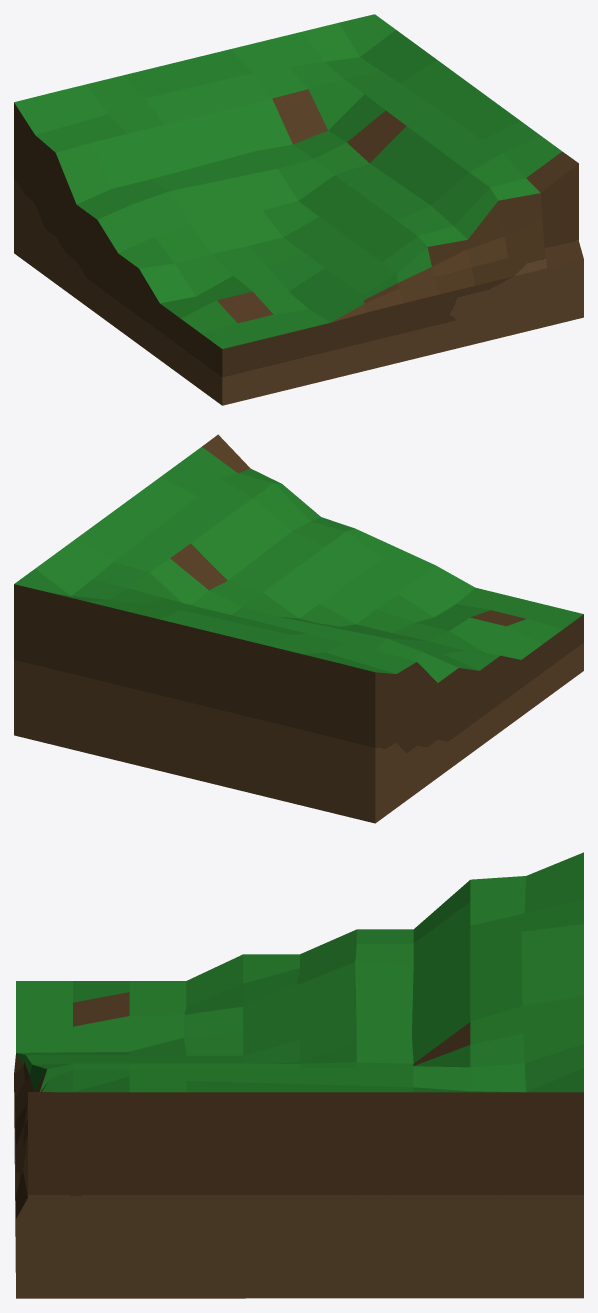
File: Elev_EPP.fbx
3 renders of one model, top to bottom at view 1: azimuth 30°, elevation 25°; view 2: azimuth 150°, elevation 25°; view 3: azimuth 270°, elevation 25°, orthographic. The views are drawn at different scales.
Visible parts, largest first — view 1: Elev_EPP; view 2: Elev_EPP; view 3: Elev_EPP.
Part boxes in pixels (box(x1,y1,x2,y2)): Elev_EPP: box(14, 14, 583, 405); Elev_EPP: box(14, 434, 583, 823); Elev_EPP: box(14, 852, 583, 1298).
Bounding box in the file's own units: 200 × 80.13 × 201.
